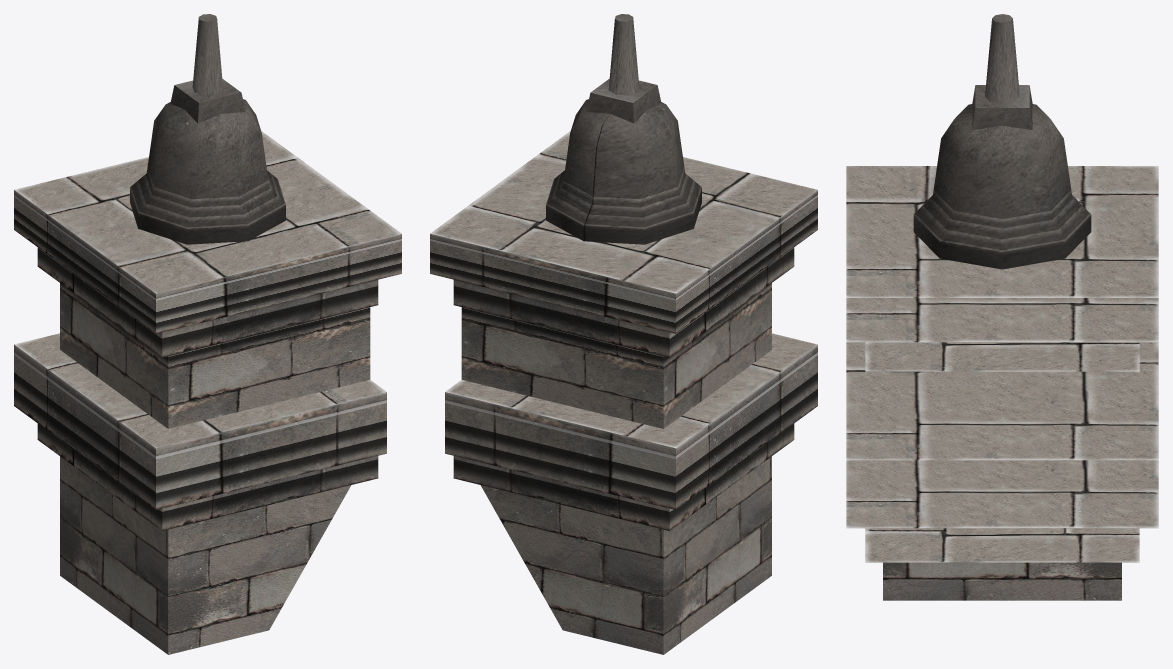
The model's file is Gate_I.FBX.
3 views of the same model, side by side, from view 1: azimuth 30°, elevation 25°; view 2: azimuth 150°, elevation 25°; view 3: azimuth 270°, elevation 25° (orthographic). The views are drawn at different scales.
Visible parts, largest first — view 1: Gate_I; view 2: Gate_I; view 3: Gate_I.
Boxes of the visible parts, x1,y1,x2,y2 form: Gate_I: (14, 14, 401, 654); Gate_I: (430, 14, 817, 654); Gate_I: (846, 14, 1158, 600).
Bounding box in the file's own units: 1.31 × 2.93 × 1.31.
